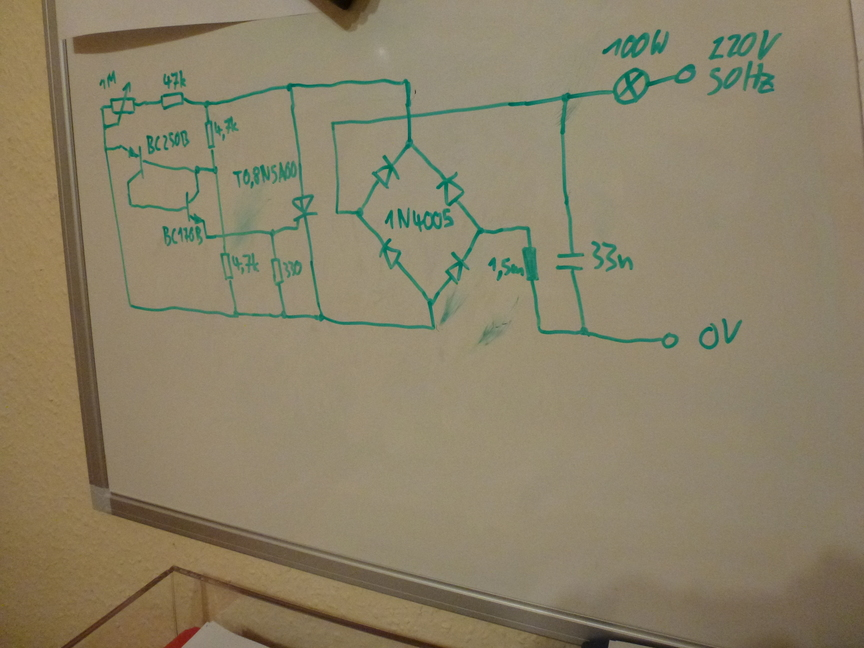capacitor.unpolarized: (551, 243, 588, 279)
crossover: (401, 108, 417, 124), (217, 230, 230, 242)
diode: (431, 169, 469, 207), (366, 153, 403, 191), (440, 249, 472, 288), (374, 236, 407, 272)
inductor: (518, 242, 544, 288)
junction: (556, 85, 575, 106), (226, 307, 246, 323), (470, 224, 490, 239), (575, 324, 593, 340), (419, 293, 438, 308), (400, 135, 417, 151), (314, 310, 330, 327), (281, 80, 299, 95), (398, 72, 413, 88), (425, 318, 440, 334), (350, 205, 366, 219), (275, 308, 291, 322), (188, 163, 202, 177), (207, 163, 222, 176), (533, 323, 546, 338), (200, 97, 213, 111), (522, 222, 536, 235), (267, 226, 279, 239), (124, 300, 138, 311), (327, 118, 339, 130), (331, 206, 342, 219), (125, 199, 138, 210), (101, 144, 112, 154), (99, 121, 109, 131), (96, 102, 107, 111), (202, 233, 210, 242)
lamp: (610, 64, 653, 108)
resistor: (153, 90, 193, 111), (267, 253, 287, 290), (218, 247, 235, 287), (201, 117, 218, 152)
resistor.adjustable: (109, 81, 138, 129)
terminal: (671, 61, 698, 88), (657, 328, 681, 354)
text: (702, 61, 784, 100), (705, 28, 787, 61), (600, 27, 672, 60), (382, 205, 457, 232), (588, 237, 639, 276), (230, 159, 298, 188), (697, 316, 743, 353), (144, 129, 192, 156), (485, 254, 525, 283), (159, 224, 206, 247), (160, 68, 190, 91), (213, 116, 240, 141), (232, 253, 261, 274), (95, 68, 121, 90), (282, 259, 303, 278)
thyristor: (287, 191, 324, 231)
transistor: (117, 141, 147, 185), (181, 187, 207, 224)
